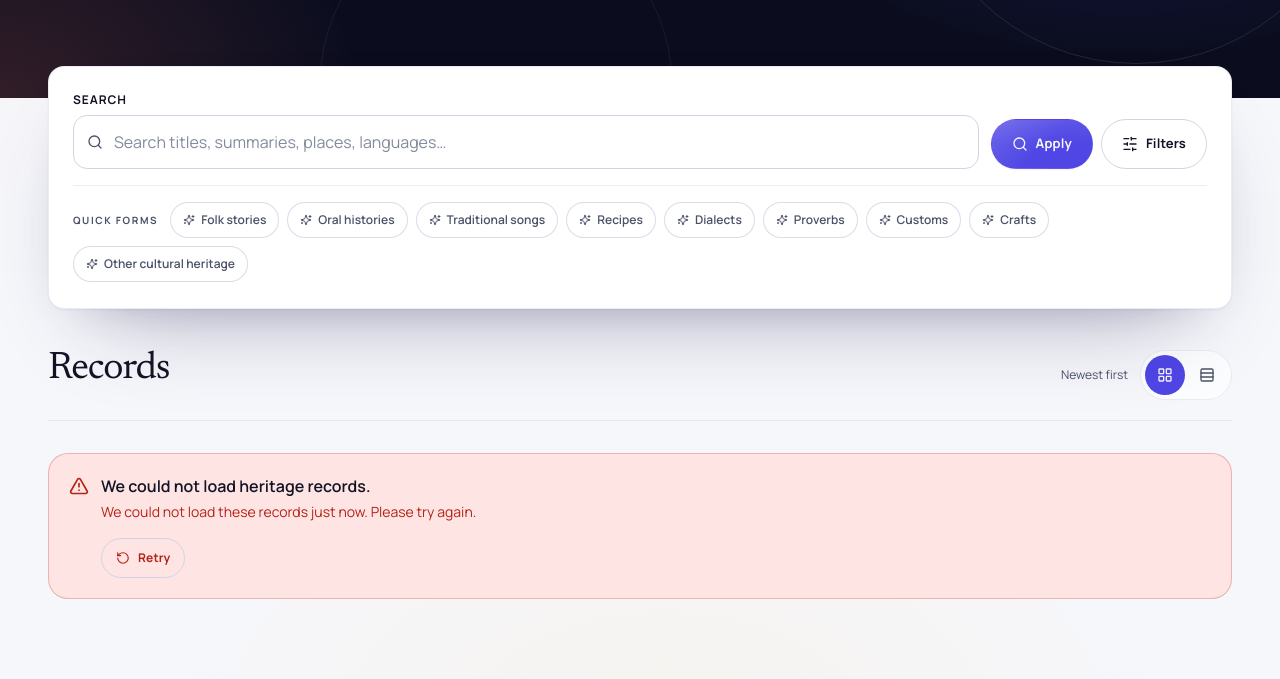
Test: ExplorePage › shows an error state and recovers after retry
(page scrolled)
Check: the message shows "could not load heritage records", box [101,474,370,496]
Step 1. Click the button "Retry" → (143, 558), box [101,538,185,578]
(page scrolled)
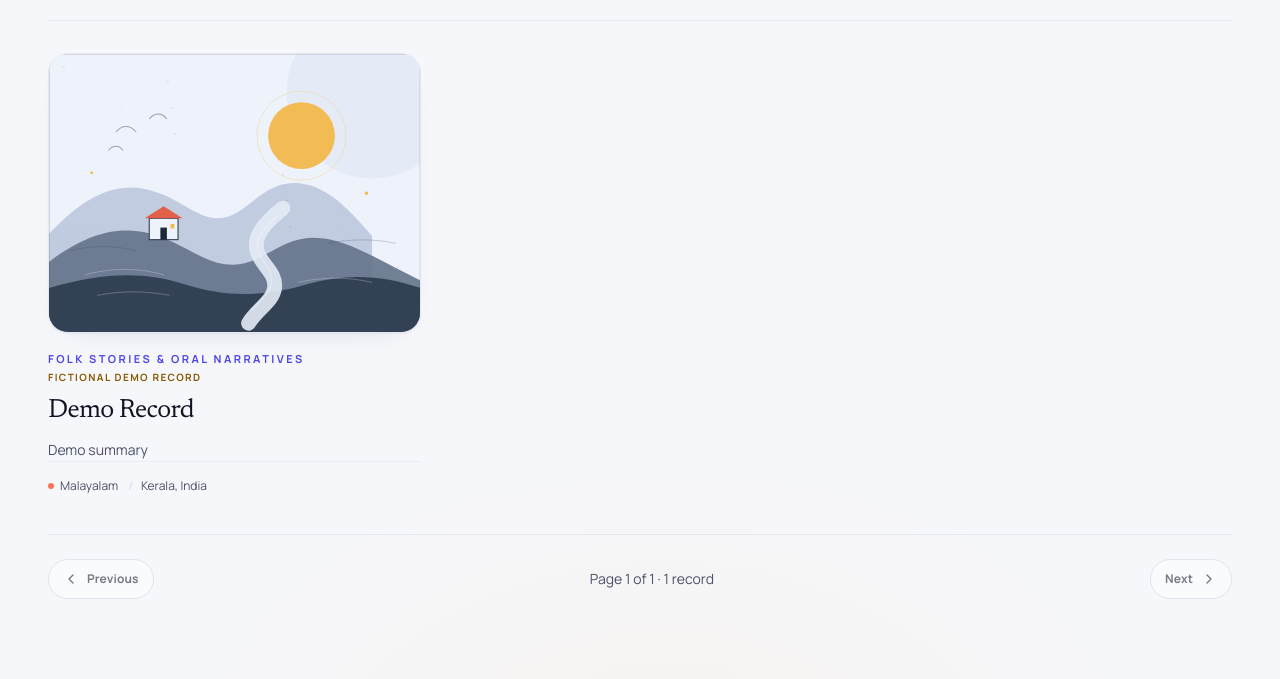
Check: the heading "Demo Record" is shown, box [48,398,194,424]
Check: the message is gone
